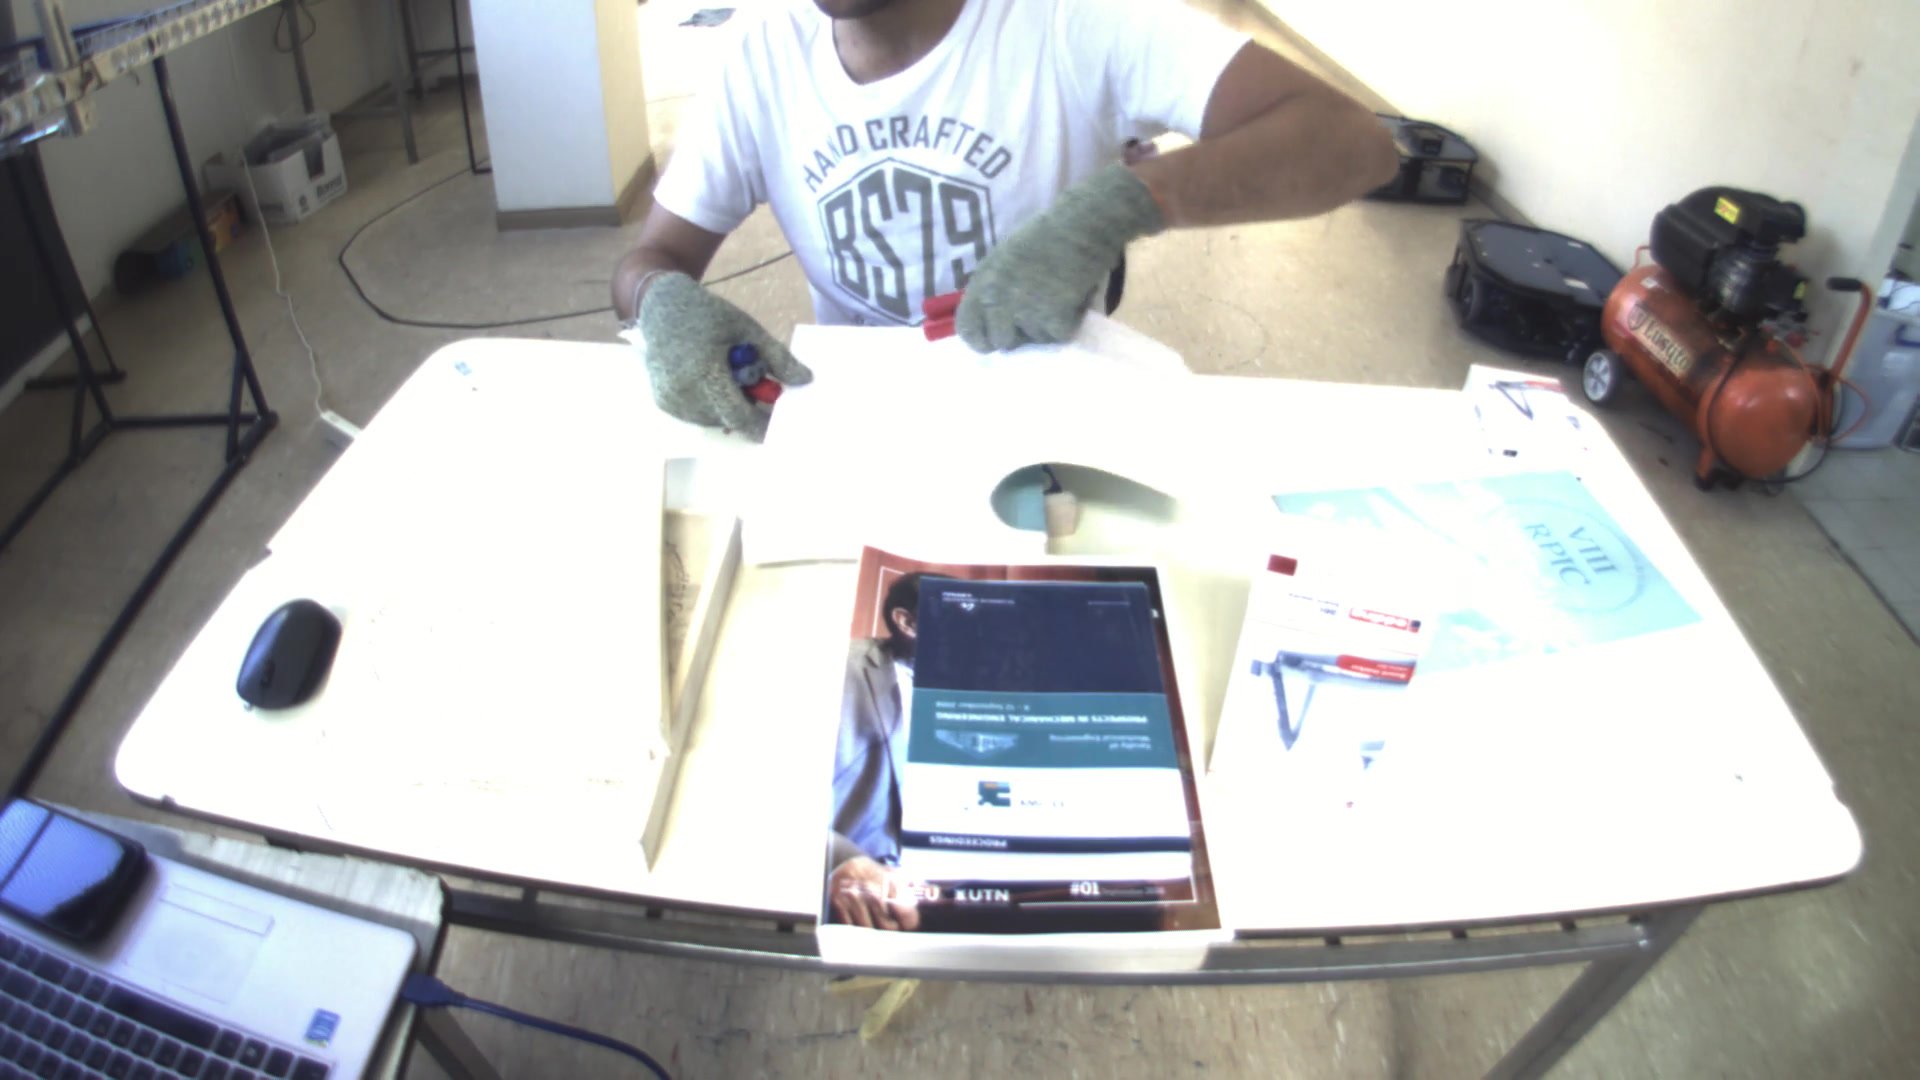hand: (953, 161, 1154, 353), (611, 265, 819, 440)
